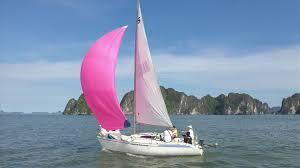Ship: (70, 3, 210, 158)
